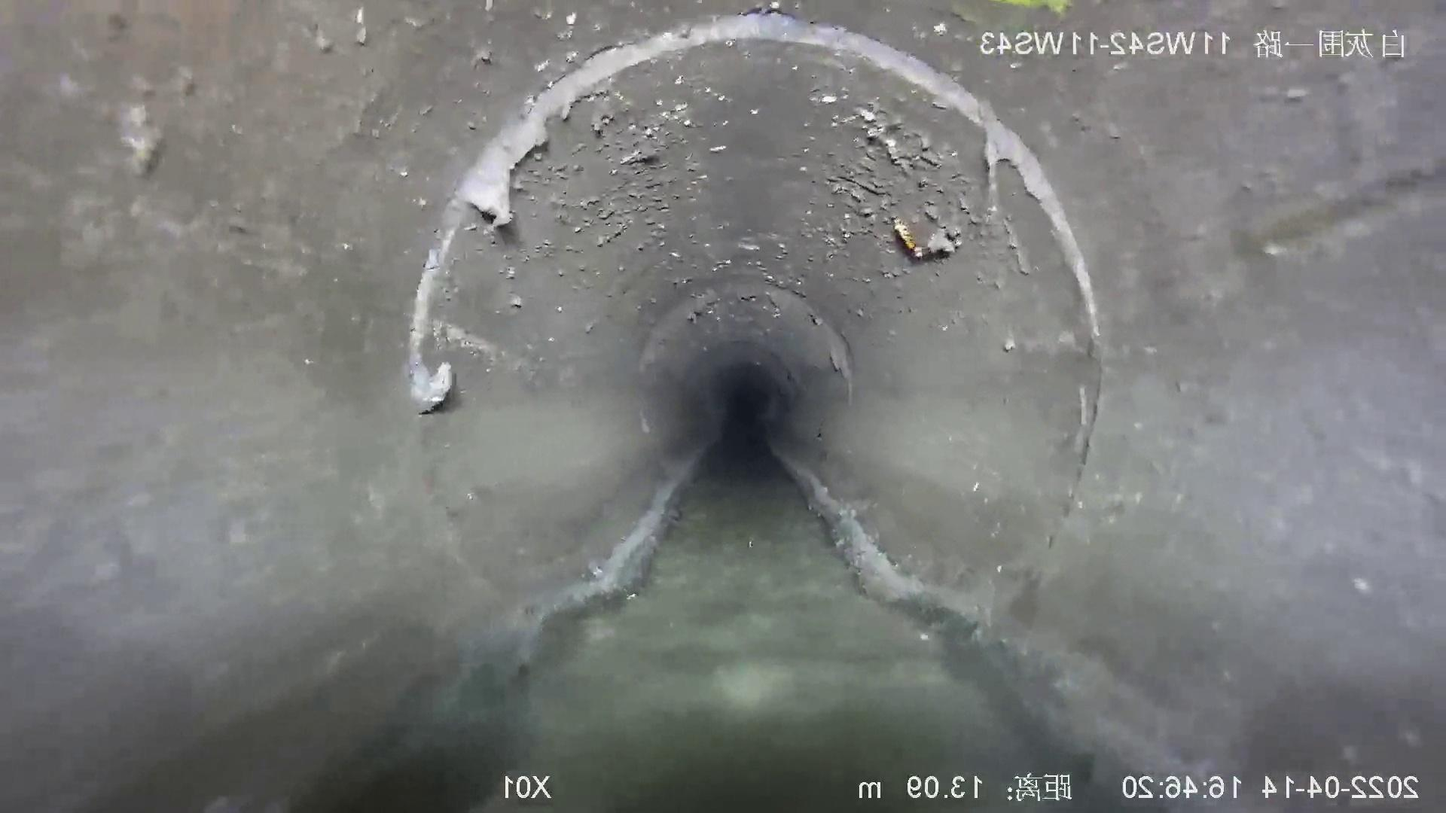CKTJ: (406, 12, 1099, 409)
JG: (770, 67, 982, 251), (556, 93, 731, 230), (524, 141, 588, 196)
